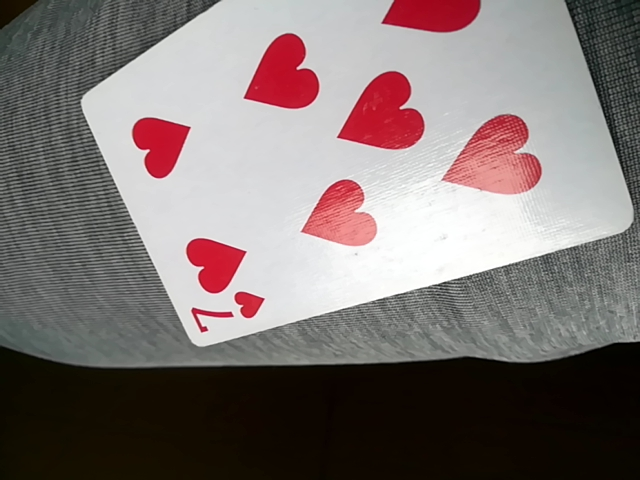hx 7: (76, 3, 636, 343)
